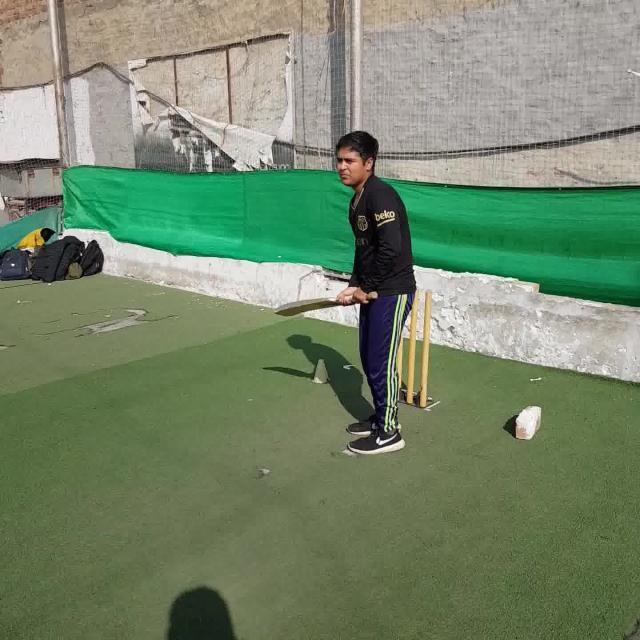bat: (274, 292, 378, 316)
